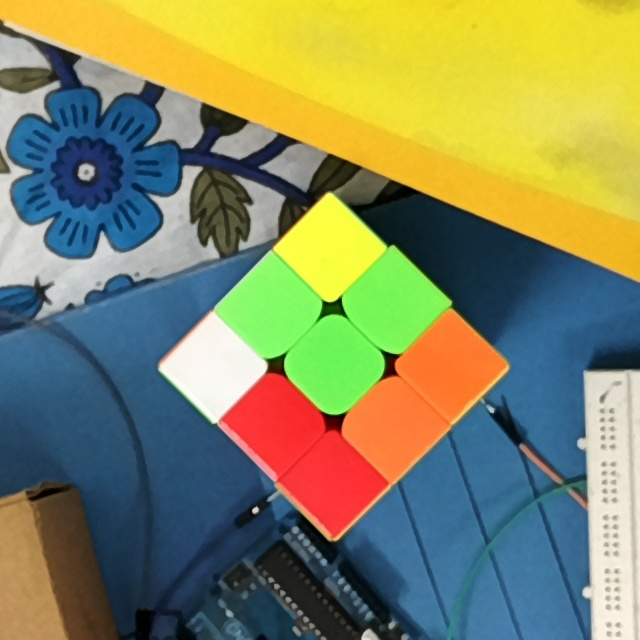tile: (363, 274, 419, 331), (246, 280, 302, 336), (427, 340, 481, 393), (366, 398, 420, 451), (303, 222, 356, 274), (306, 338, 359, 389), (251, 397, 302, 449), (189, 342, 239, 394), (311, 460, 360, 507)
